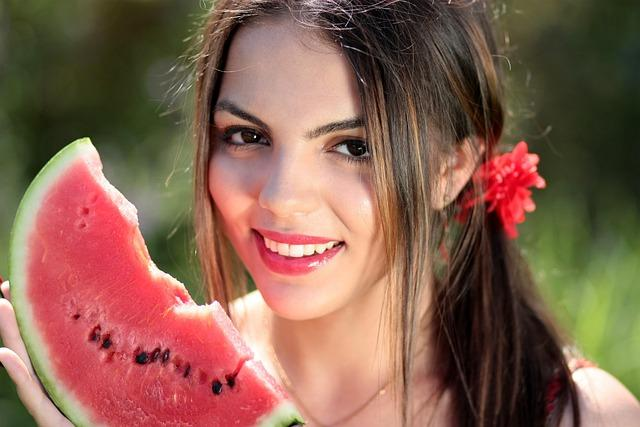Non_Gorille: (12, 5, 592, 427)
